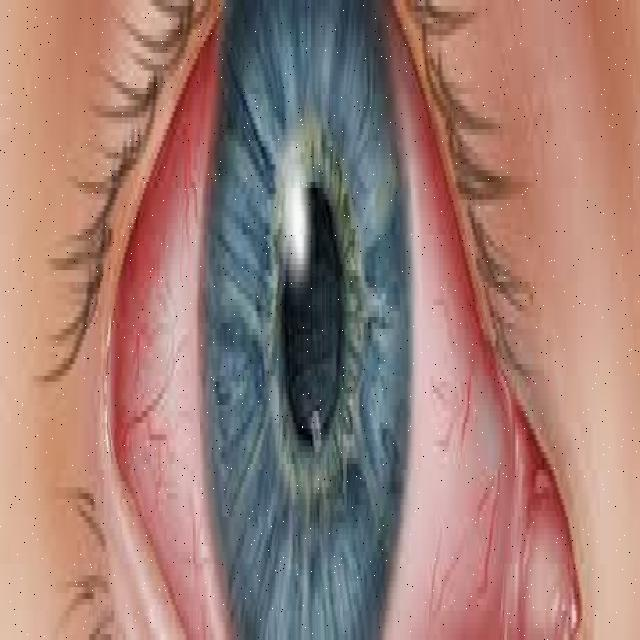Conjunctivitis: (110, 19, 590, 640)
